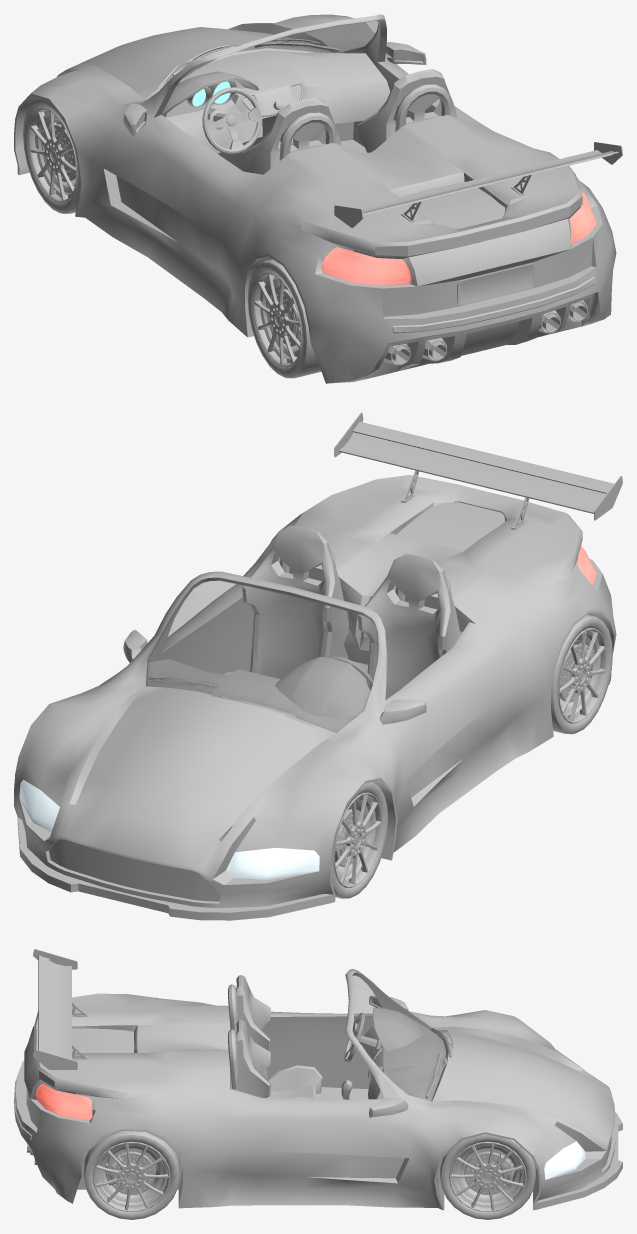
The picture shows the model from 3 angles, top to bottom: view 1: azimuth 30°, elevation 25°; view 2: azimuth 150°, elevation 25°; view 3: azimuth 270°, elevation 25°; orthographic projection. The views are drawn at different scales.
Size of the model in its own units: 188 by 118 by 396.
